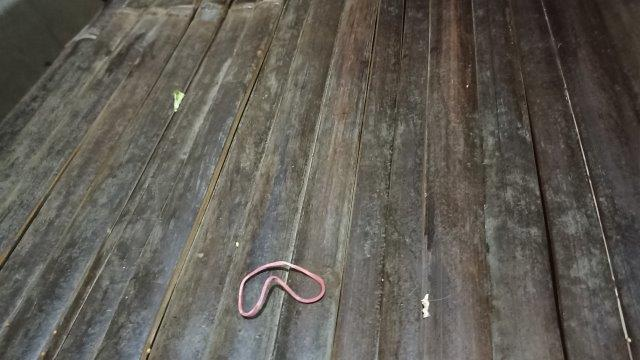karet: (237, 261, 325, 317)
